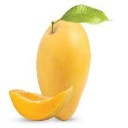mango: (37, 16, 91, 121)
